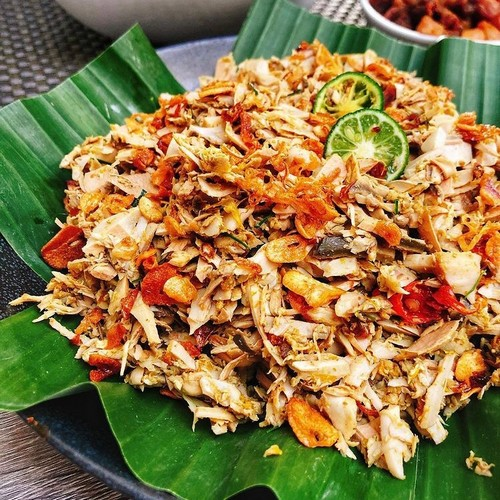lawar: (61, 157, 499, 383)
